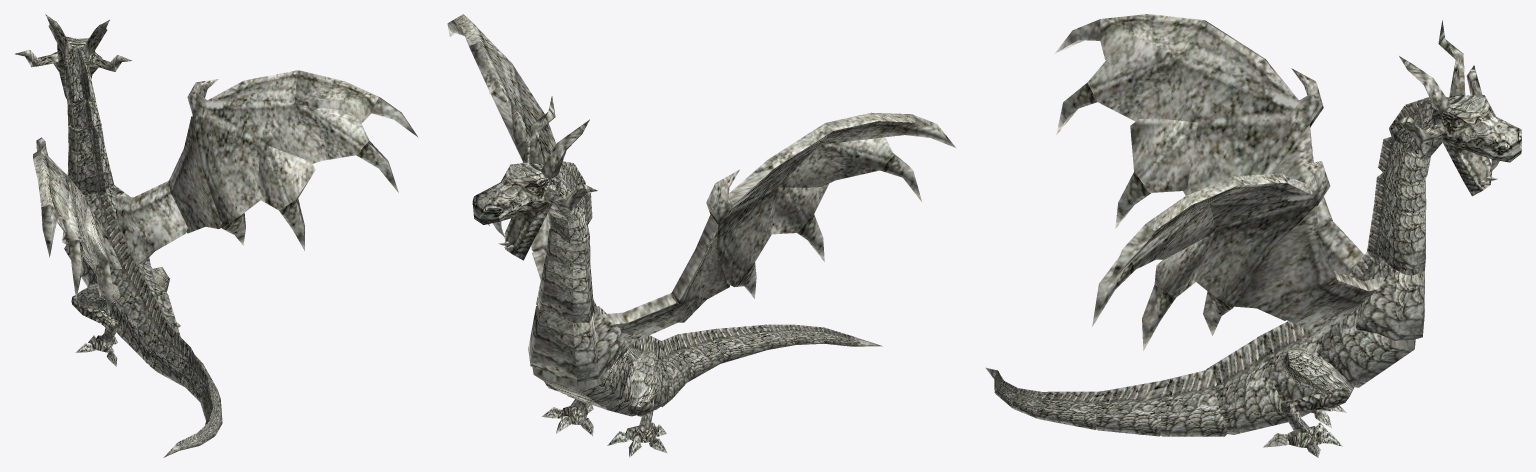
Rendered from dragon01j.glb.
3 views of the same model, side by side, from view 1: azimuth 30°, elevation 25°; view 2: azimuth 150°, elevation 25°; view 3: azimuth 270°, elevation 25° (orthographic). The views are drawn at different scales.
Parts seen in each view (by area): view 1: dragon01j-col; view 2: dragon01j-col; view 3: dragon01j-col.
Part boxes in pixels (box(x1,y1,x2,y2)): dragon01j-col: box(15, 14, 418, 457); dragon01j-col: box(447, 14, 955, 457); dragon01j-col: box(985, 14, 1521, 457).
Size of the model in its own units: 4.6 by 3.44 by 4.26.
1 material, 1 textured.
